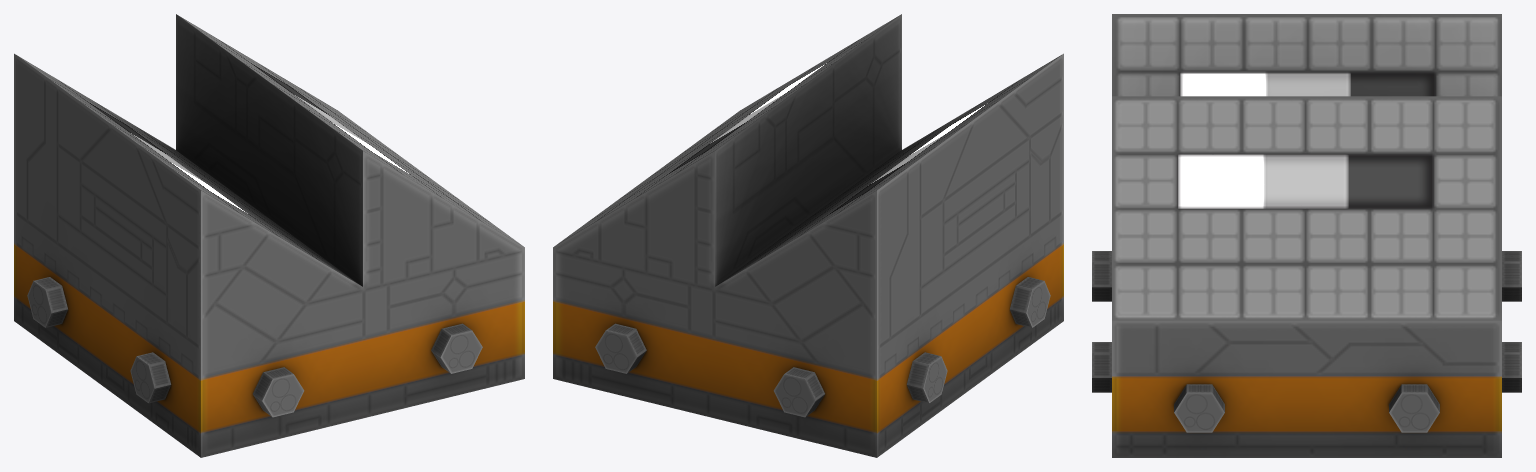
File: SolarPanel.dae
3 views of the same model, side by side, from view 1: azimuth 30°, elevation 25°; view 2: azimuth 150°, elevation 25°; view 3: azimuth 270°, elevation 25° (orthographic). The views are drawn at different scales.
Visible parts, largest first — view 1: SolarPanel; view 2: SolarPanel; view 3: SolarPanel.
Boxes of the visible parts, x1,y1,x2,y2 form: SolarPanel: (14,14,524,457); SolarPanel: (553,14,1063,457); SolarPanel: (1092,14,1521,457).
Size of the model in its own units: 2 by 1.43 by 2.
